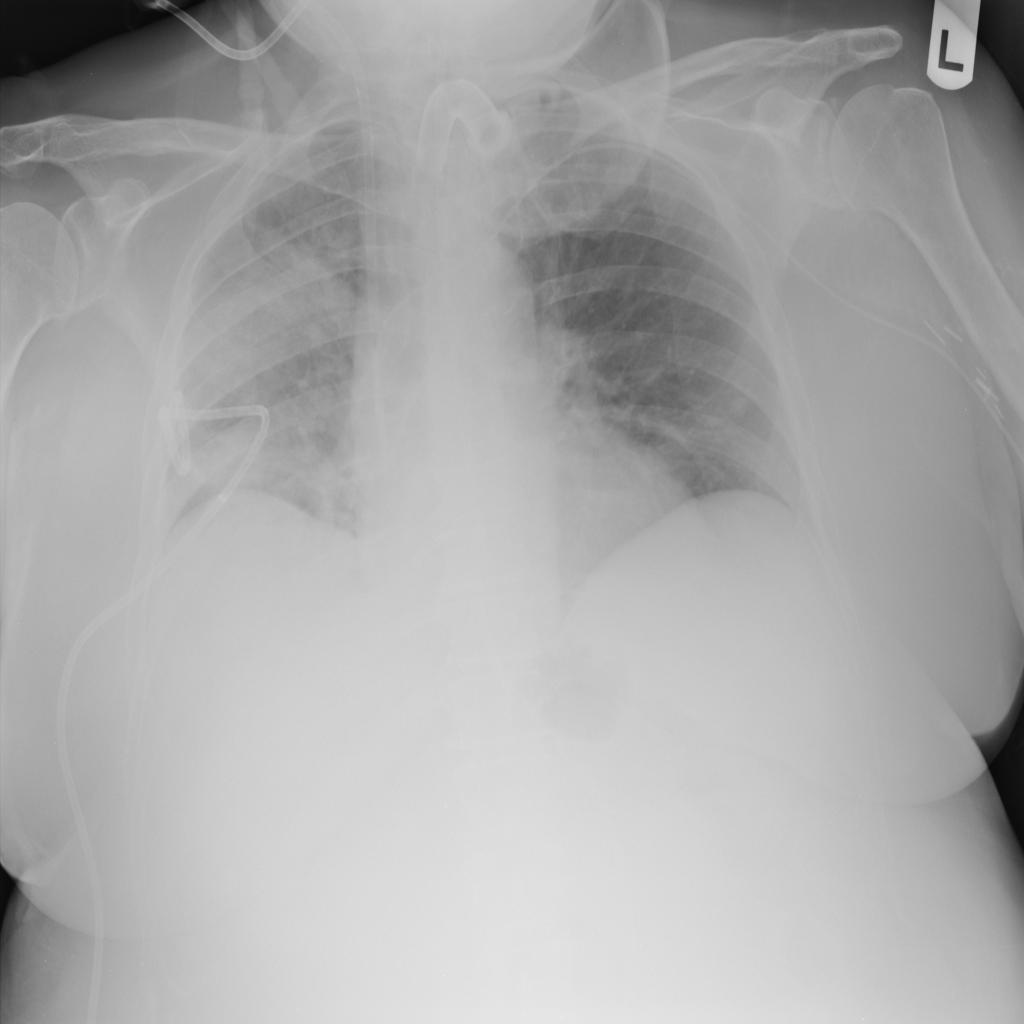nodule: (183, 224, 365, 396), (716, 379, 767, 428)
